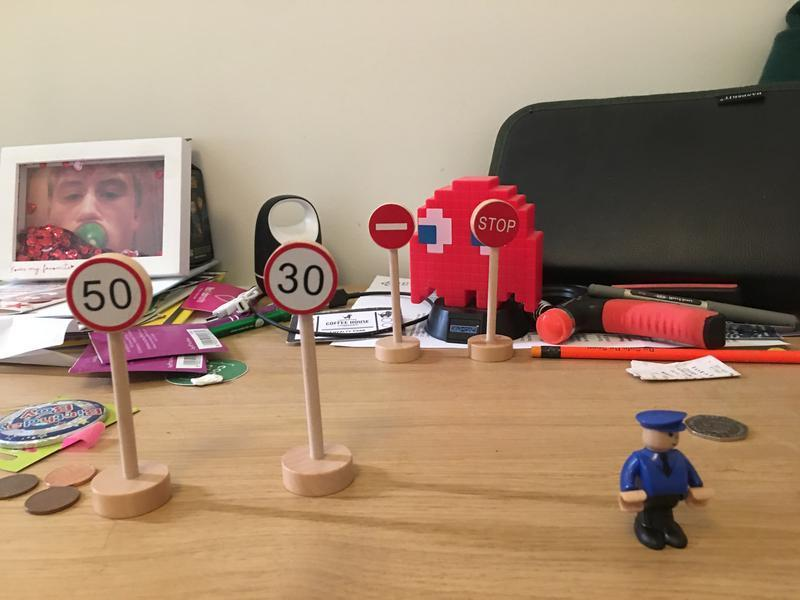Traffic_Sign_30: (266, 243, 335, 314)
Traffic_Sign_50: (69, 262, 144, 329)
Traffic_Sign_No_Entry: (370, 204, 414, 247)
Traffic_Sign_Stop: (473, 200, 517, 247)
person: (614, 409, 711, 557)
